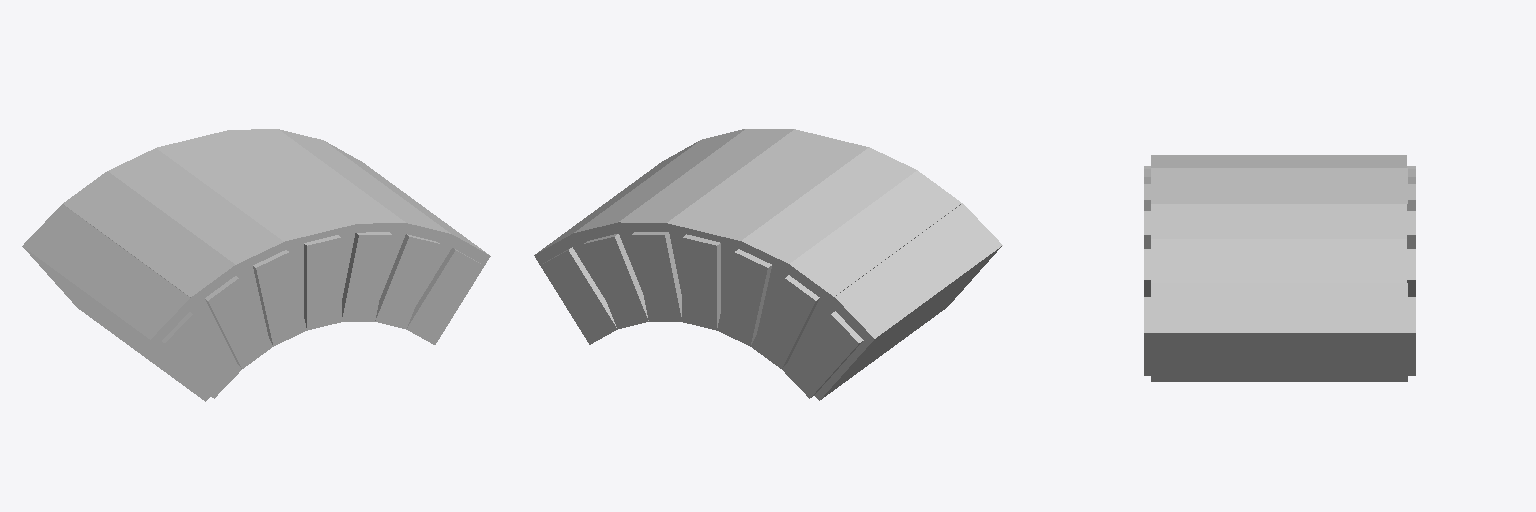
The model's file is lime_mortar_orange_clay_brick_segmental_arch_1.obj.
3 views of the same model, side by side, from view 1: azimuth 30°, elevation 25°; view 2: azimuth 150°, elevation 25°; view 3: azimuth 270°, elevation 25° (orthographic).
Parts seen in each view (by area): view 1: cube.005, cube.002, cube.004, cube.003, cube.001, cube.000, brick, brick.001, brick.002, brick.000, brick.003, brick.004 (+2 smaller); view 2: cube.005, cube.002, cube.004, cube.003, cube.001, brick, brick.001, brick.000, brick.002, brick.003, cube.000, brick.005 (+2 smaller); view 3: cube, cube.000, cube.002, cube.001, cube.003, brick, brick.000, brick.002.
Part boxes in pixels (x1,y1,x2,y2): cube.005: (22, 204, 236, 401); cube.002: (157, 130, 357, 313); cube.004: (63, 171, 238, 332); cube.003: (108, 148, 285, 336); cube.001: (231, 129, 406, 280); cube.000: (279, 129, 450, 304); brick: (406, 248, 482, 344); brick.001: (304, 235, 341, 330); brick.002: (342, 232, 392, 321); brick.000: (375, 234, 439, 328); brick.003: (253, 250, 306, 346); brick.004: (86, 221, 272, 368); cube.005: (814, 203, 1002, 400); cube.002: (666, 129, 868, 309); cube.004: (757, 170, 961, 361); cube.003: (741, 147, 916, 320); cube.001: (618, 129, 793, 291); brick: (541, 247, 617, 344); brick.001: (682, 234, 720, 330); brick.000: (584, 234, 648, 328); brick.002: (631, 232, 681, 321); brick.003: (717, 249, 771, 346); cube.000: (573, 129, 744, 259); brick.005: (782, 311, 863, 398); cube: (1151, 283, 1407, 381); cube.000: (1151, 239, 1406, 282); cube.002: (1151, 168, 1407, 203); cube.001: (1151, 204, 1406, 238); cube.003: (1151, 155, 1406, 167); brick: (1144, 297, 1415, 375); brick.000: (1144, 249, 1415, 296); brick.002: (1144, 211, 1415, 248).
Size of the model in its own units: 1.55 by 0.6108 by 1.07.